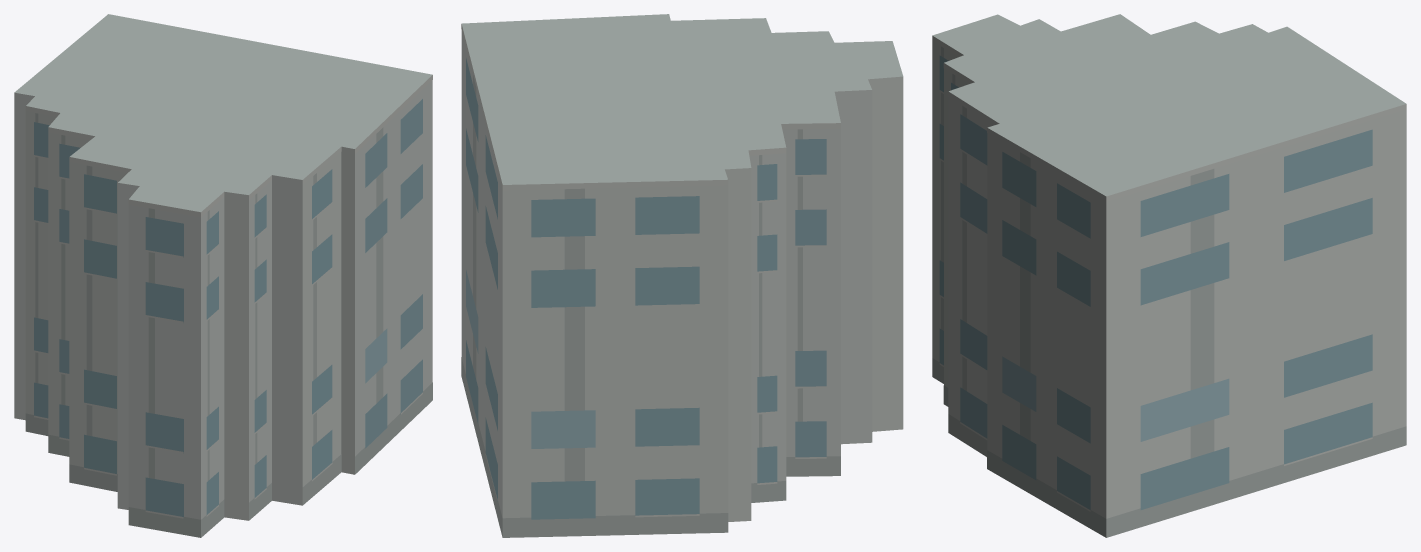
Rendered from survey-upis-32476444.glb.
3 views of the same model, side by side, from view 1: azimuth 30°, elevation 25°; view 2: azimuth 150°, elevation 25°; view 3: azimuth 270°, elevation 25° (orthographic). The views are drawn at different scales.
Visible parts, largest first — view 1: survey-upis-32476444.tmp; view 2: survey-upis-32476444.tmp; view 3: survey-upis-32476444.tmp.
Boxes of the visible parts, x1=… form: survey-upis-32476444.tmp: x1=14, y1=14, x2=432, y2=537; survey-upis-32476444.tmp: x1=461, y1=14, x2=903, y2=537; survey-upis-32476444.tmp: x1=932, y1=14, x2=1406, y2=537.
Size of the model in its own units: 17.55 by 15.3 by 19.28.
